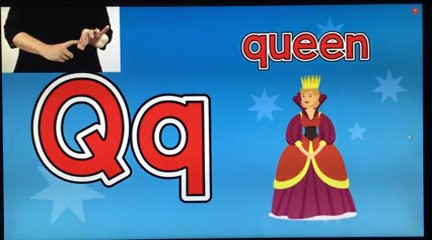Q: (41, 22, 113, 64)
